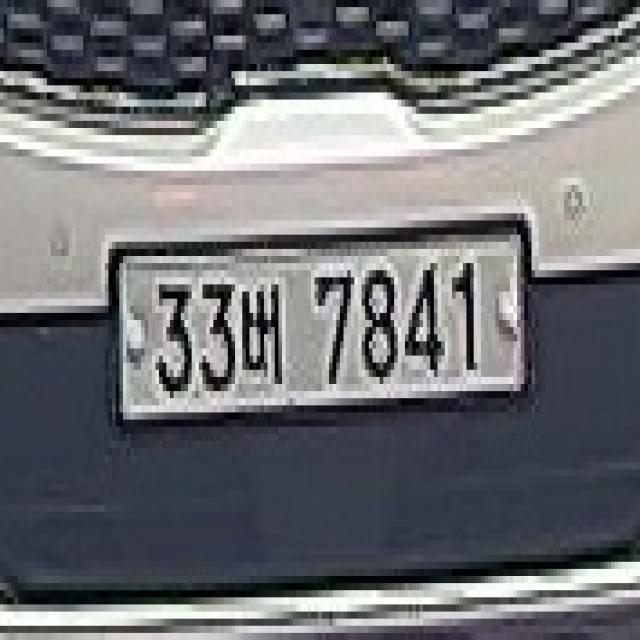1: (448, 256, 481, 377)
3: (152, 277, 195, 398), (199, 270, 239, 398)
4: (401, 256, 445, 384)
7: (311, 263, 351, 384)
8: (358, 263, 401, 384)
beo: (238, 285, 286, 391)
license_plate: (109, 227, 535, 433)
